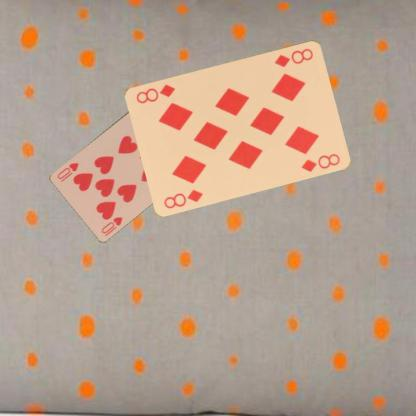10h: (98, 214, 124, 234)
8d: (161, 186, 204, 210), (272, 46, 314, 68)
